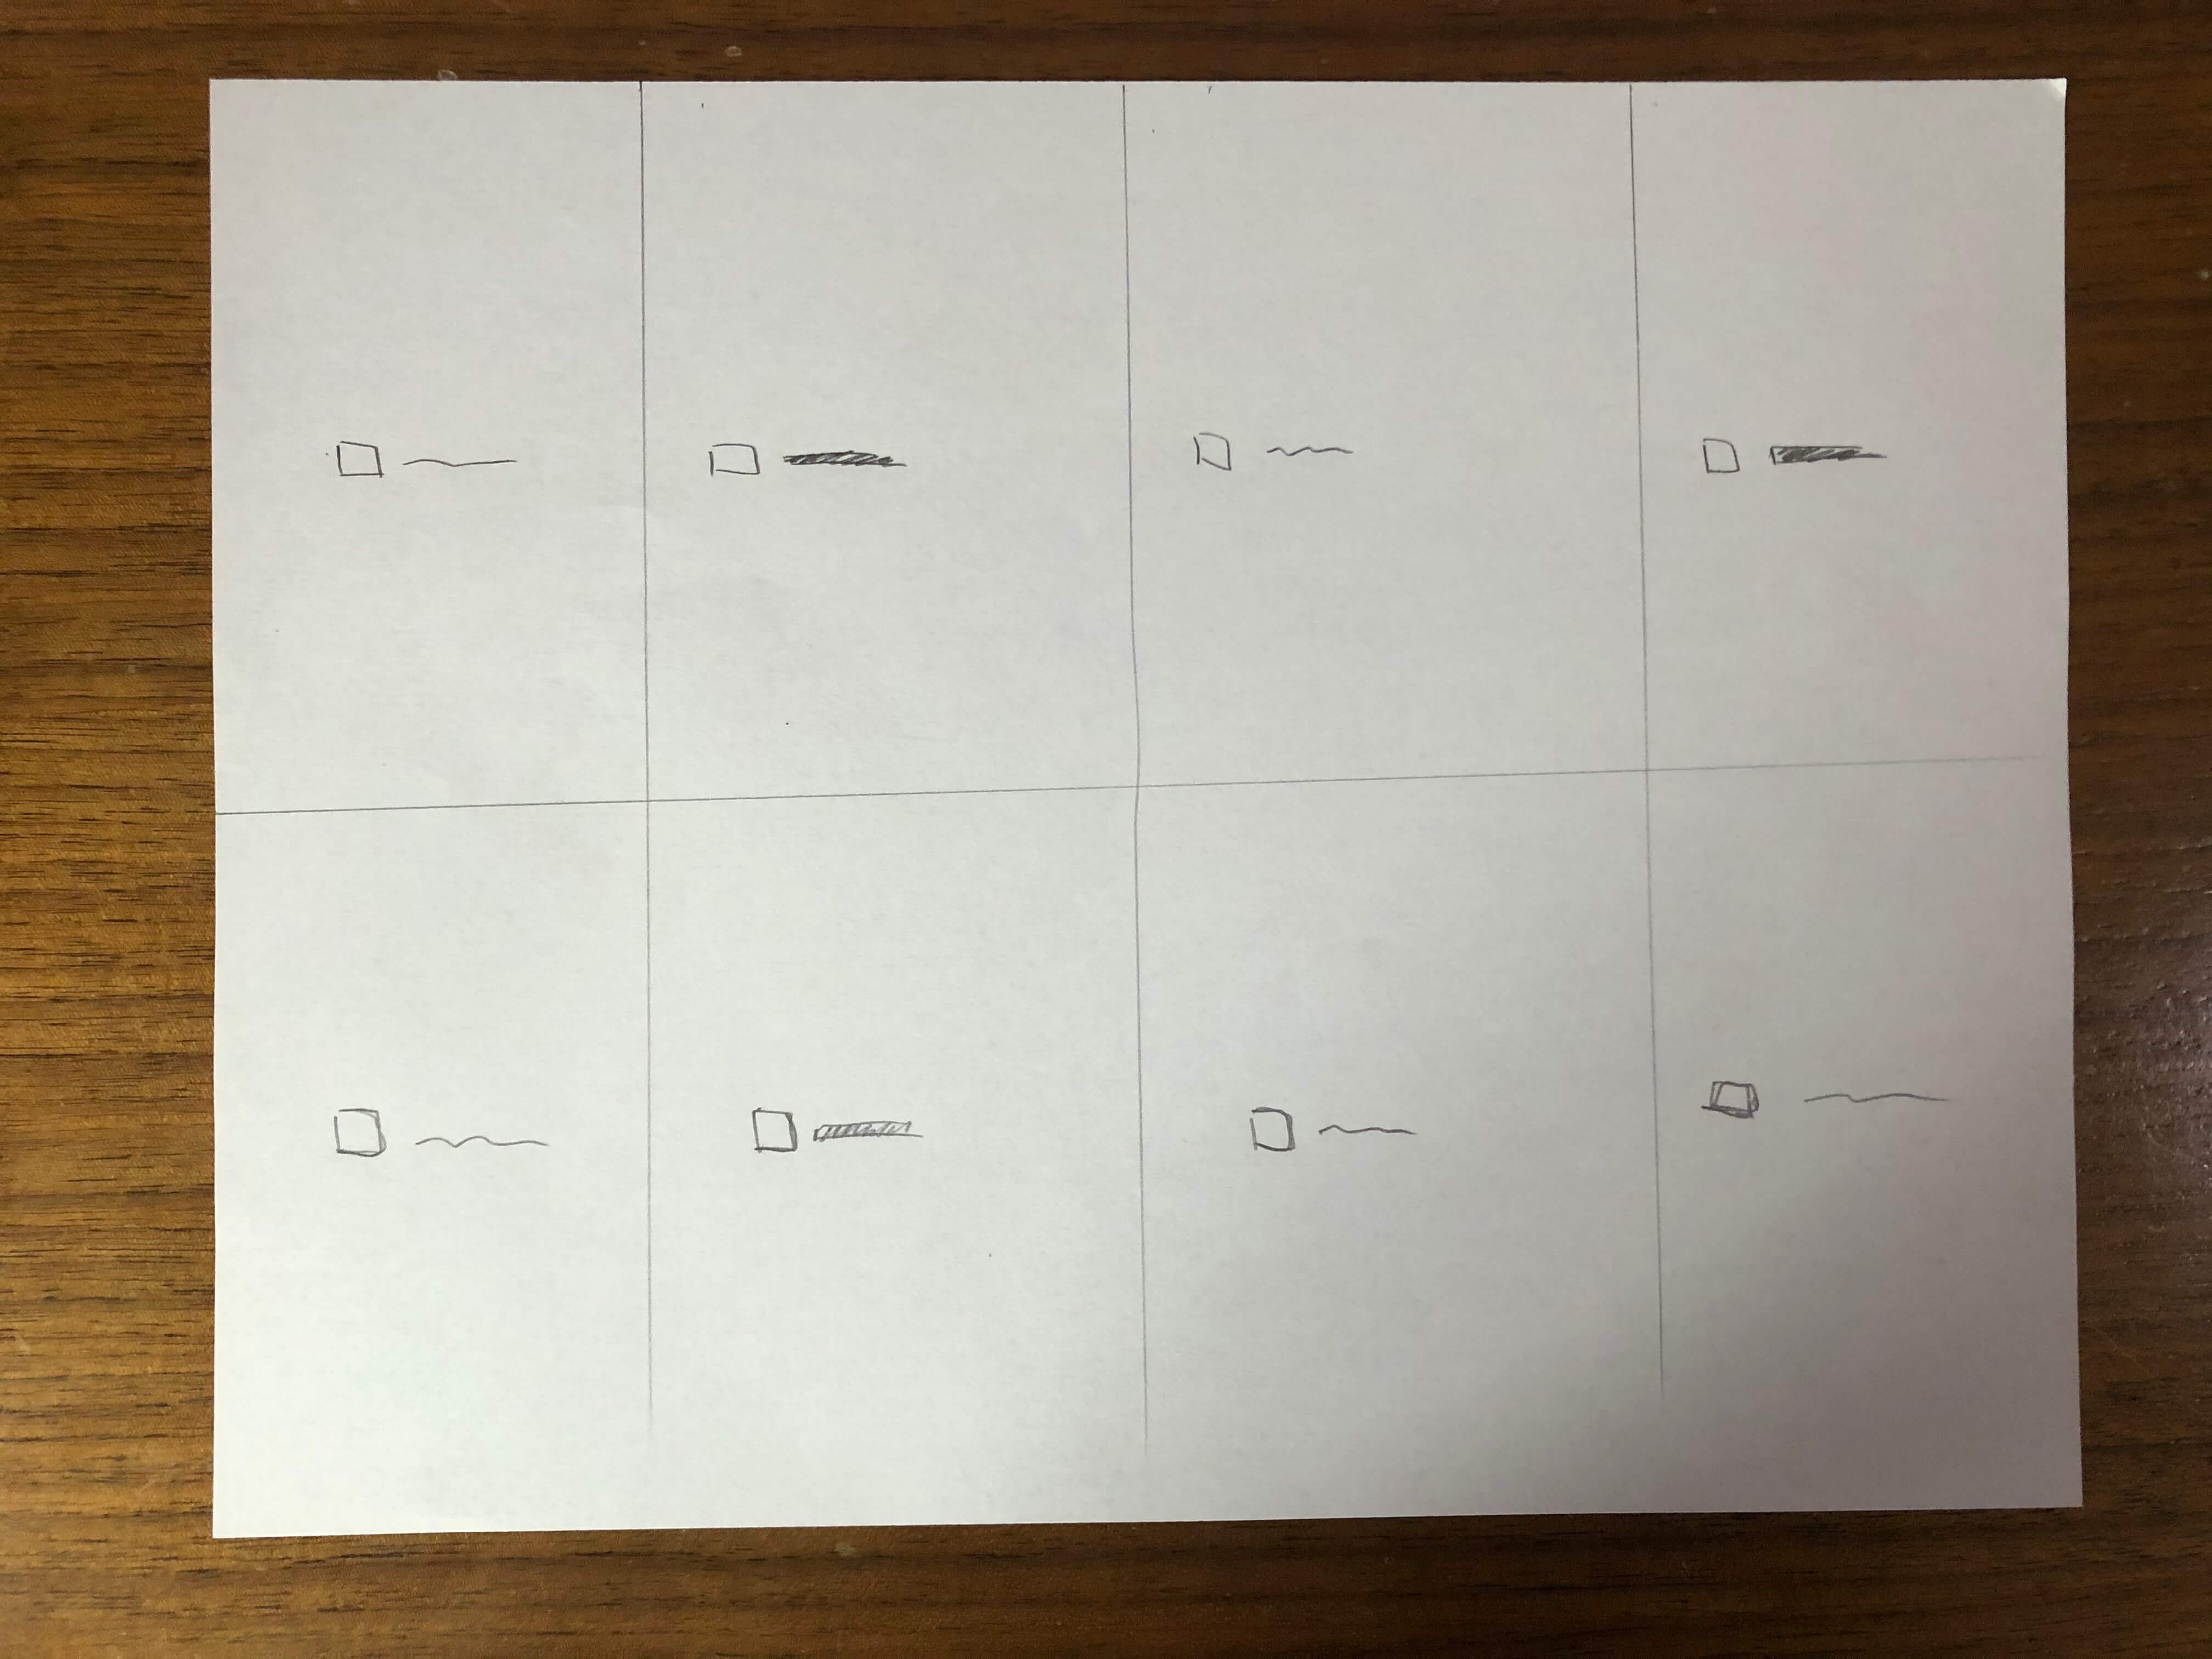checkbox: (322, 1089, 573, 1173), (1700, 1061, 1965, 1138), (334, 425, 528, 505), (730, 1093, 939, 1162), (1244, 1094, 1430, 1168), (698, 427, 920, 488), (1693, 425, 1895, 486), (1181, 423, 1374, 483)
